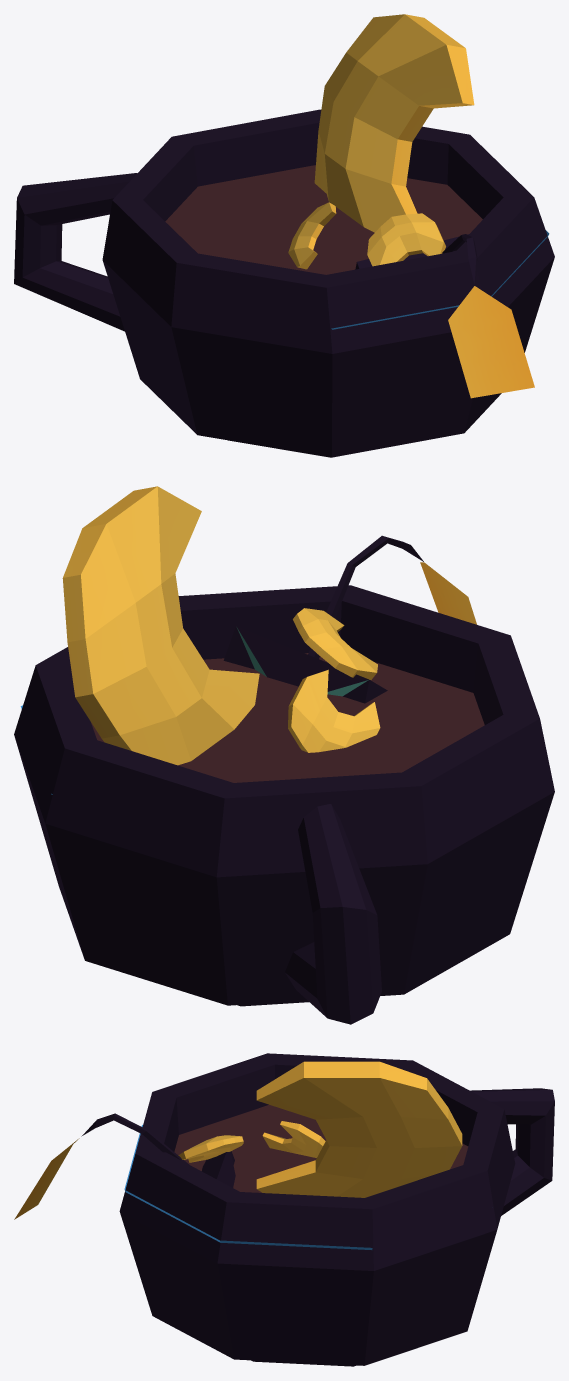
Rendered from Food_MoonTea.fbx.
3 views of the same model, one above another, from view 1: azimuth 30°, elevation 25°; view 2: azimuth 150°, elevation 25°; view 3: azimuth 270°, elevation 25° (orthographic). The views are drawn at different scales.
Parts seen in each view (by area): view 1: Cup.007; view 2: Cup.007; view 3: Cup.007.
Boxes of the visible parts, x1,y1,x2,y2 form: Cup.007: (14, 14, 554, 457); Cup.007: (14, 486, 554, 1024); Cup.007: (14, 1053, 554, 1366).
Bounding box in the file's own units: 14.19 × 11.73 × 19.15.
